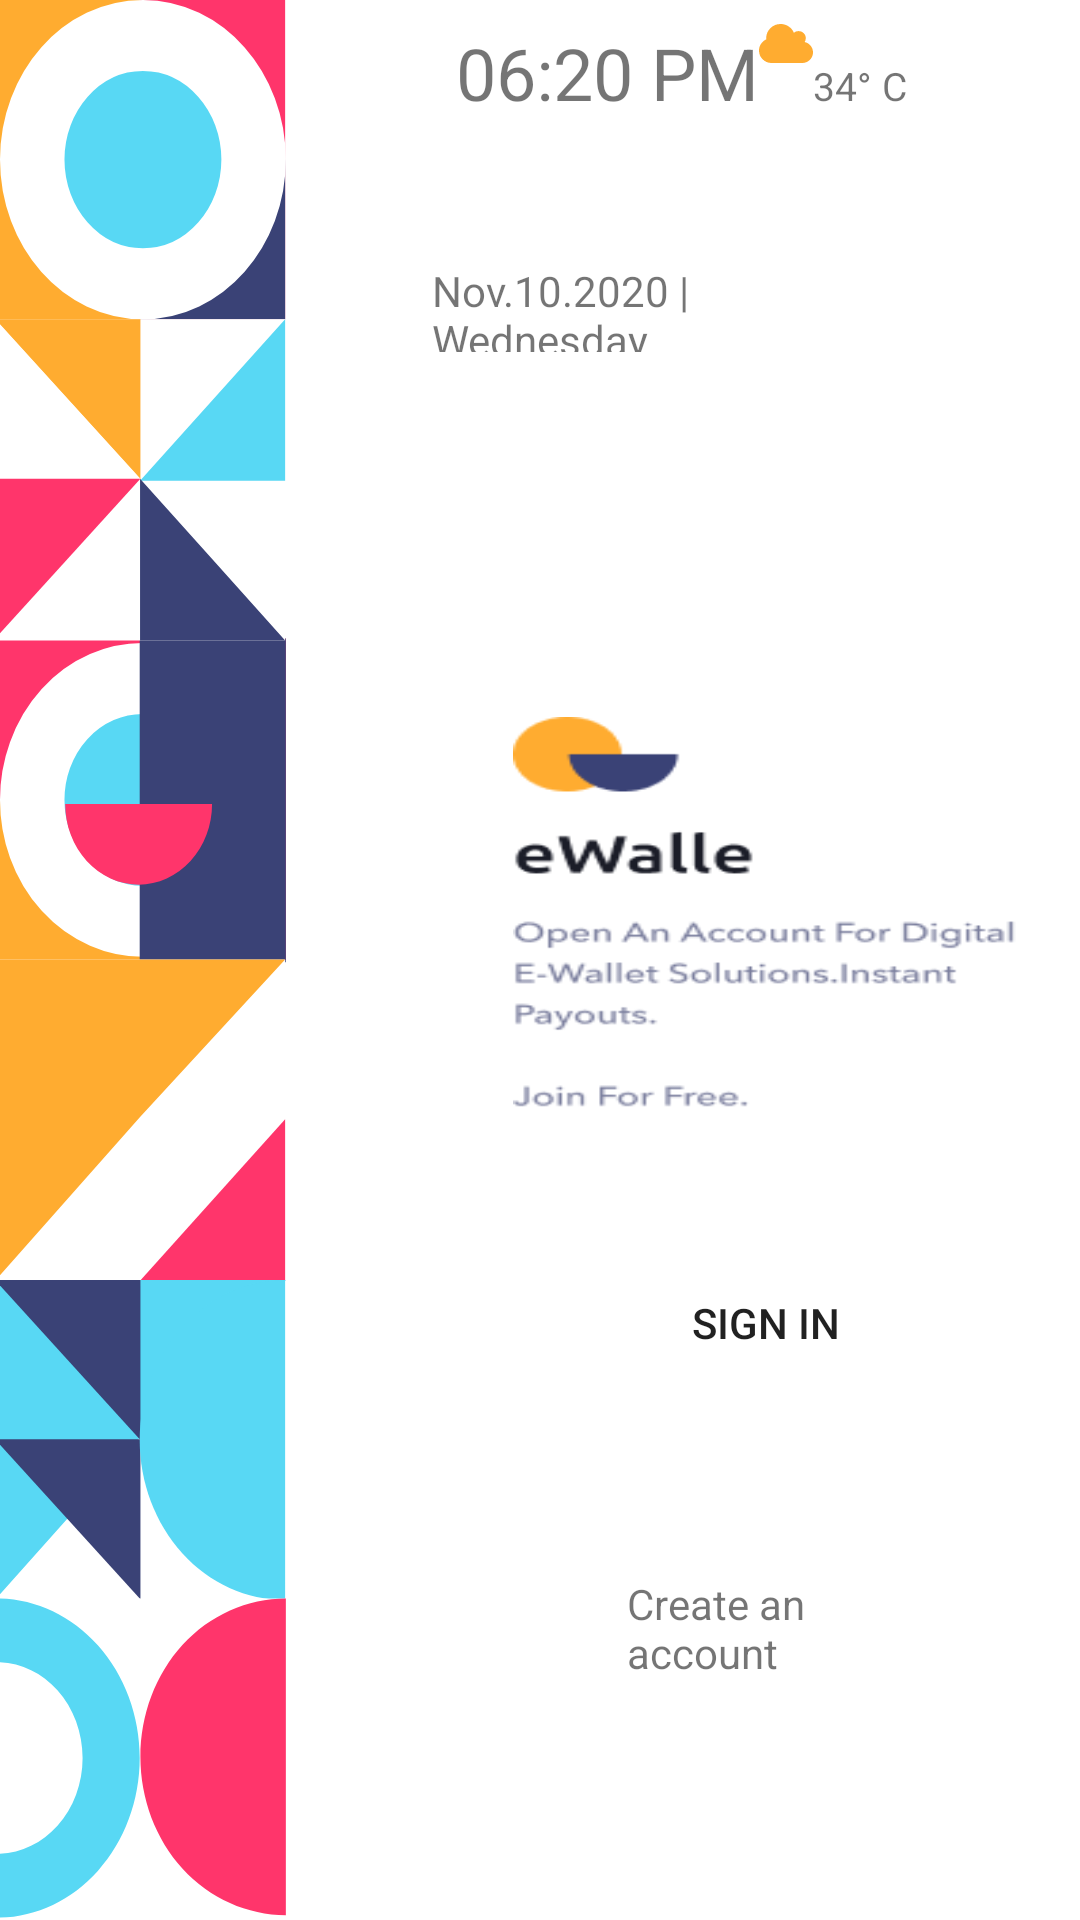

Icon bounding boxes for this 1080 × 1920 phone screenshot, format (x1, y1, x2, y2):
cloud: (759, 24, 813, 63)
